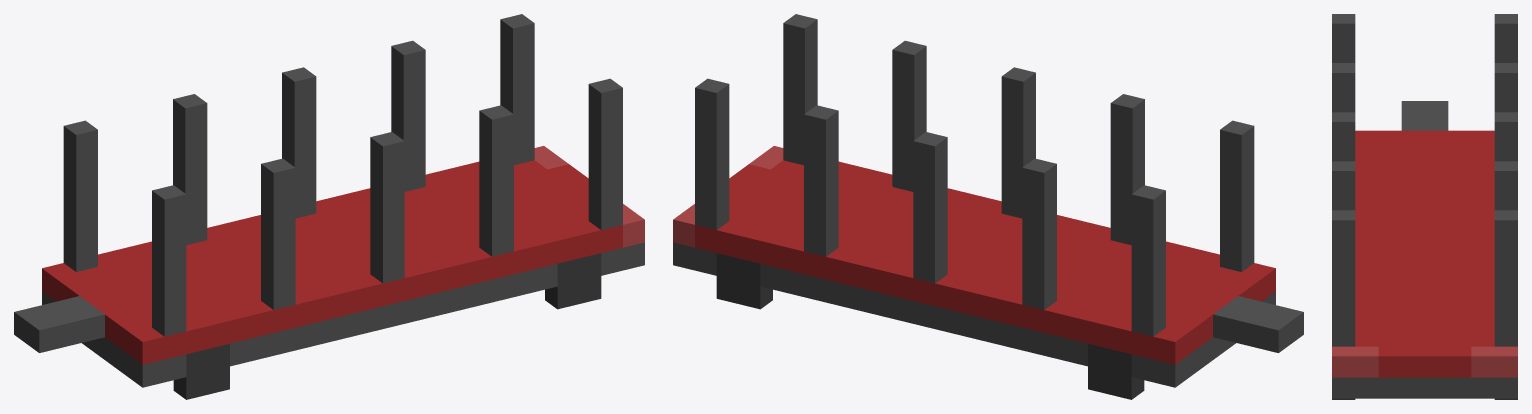
The model's file is tractor-trailer-v3-red.gltf.
3 views of the same model, side by side, from view 1: azimuth 30°, elevation 25°; view 2: azimuth 150°, elevation 25°; view 3: azimuth 270°, elevation 25° (orthographic). The views are drawn at different scales.
Parts seen in each view (by area): view 1: model, wheels; view 2: model, wheels; view 3: model.
Boxes of the visible parts, x1=… form: model: x1=14, y1=14, x2=644, y2=399; wheels: x1=173, y1=253, x2=601, y2=399; model: x1=673, y1=14, x2=1303, y2=399; wheels: x1=716, y1=253, x2=1144, y2=399; model: x1=1332, y1=14, x2=1517, y2=399.
Bounding box in the file's own units: 2.6 × 0.9 × 0.8.
Materials: 2 (2 with a texture image).
